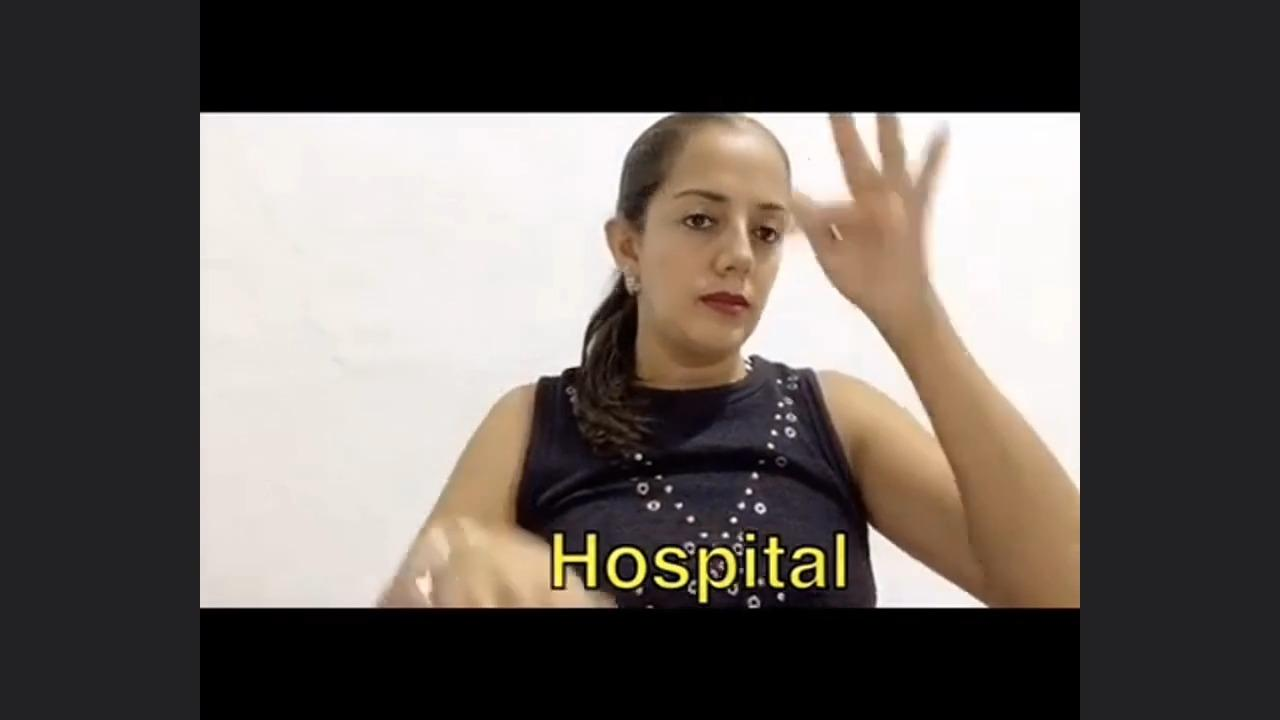Hospital: (334, 112, 1067, 610)
